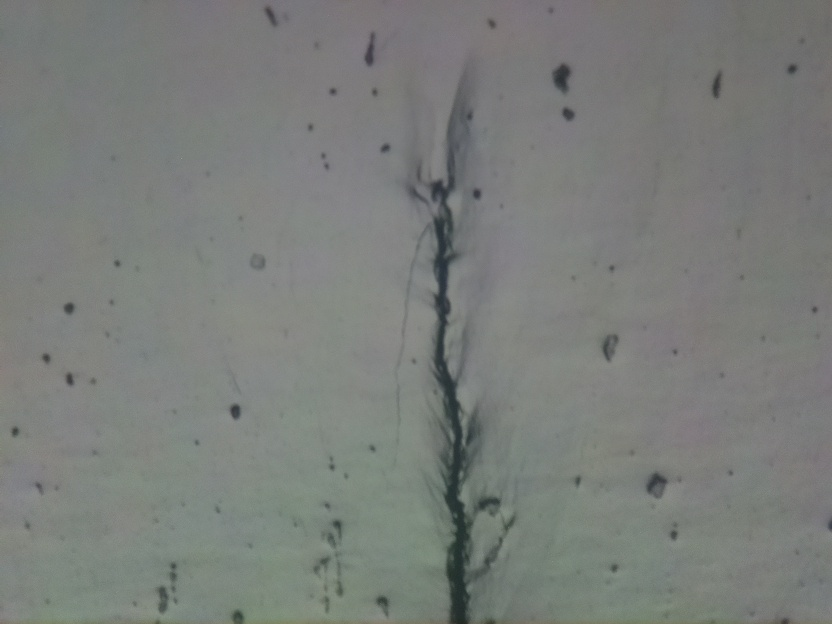crack: (417, 155, 475, 624)
